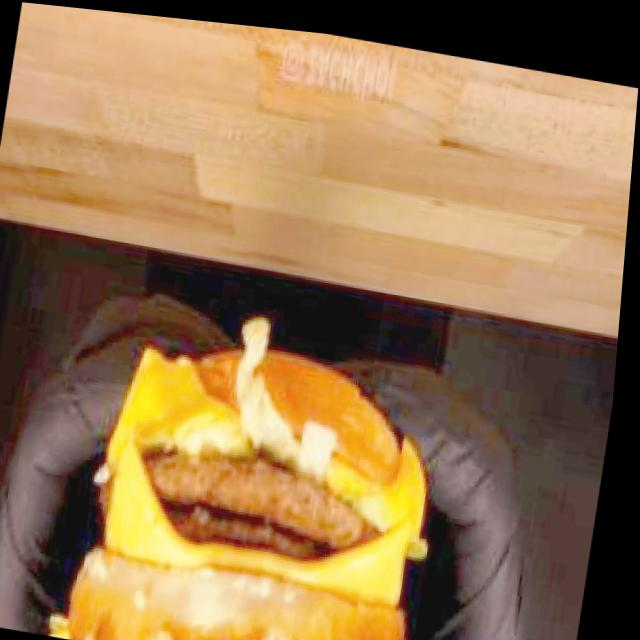burger: (52, 295, 461, 640)
